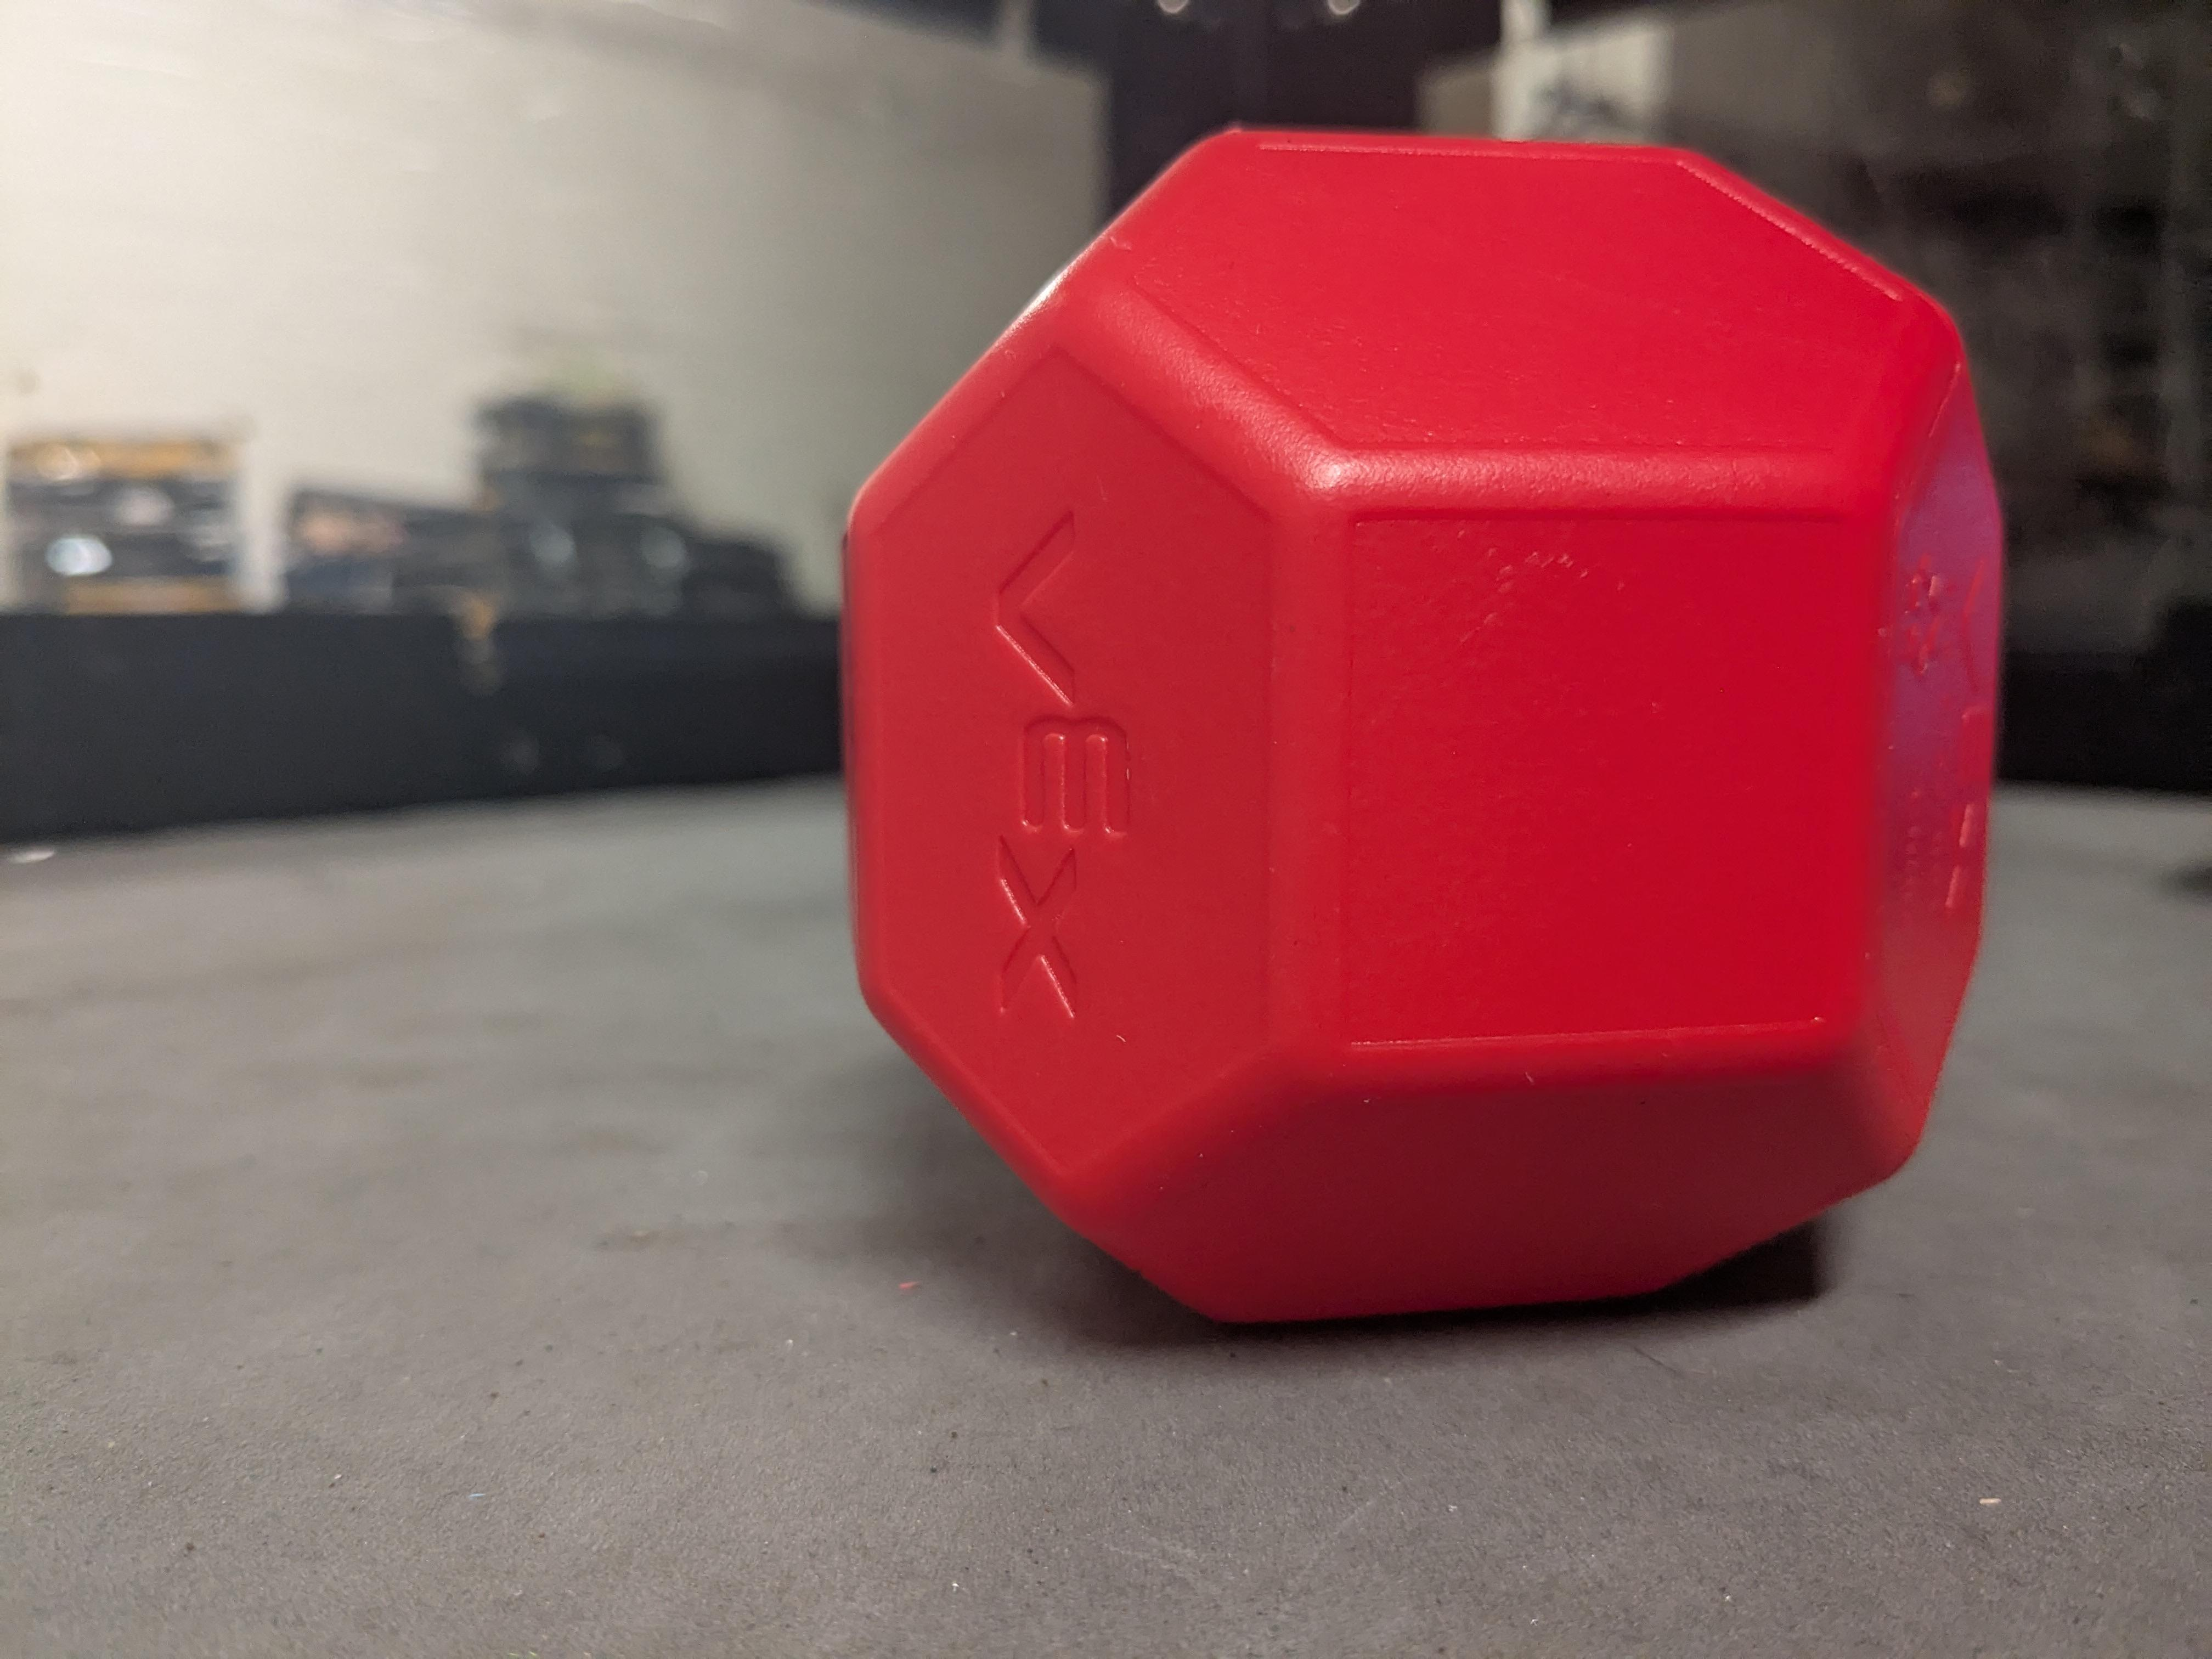Vex-Pieces-RED: (845, 132, 2000, 1319)
